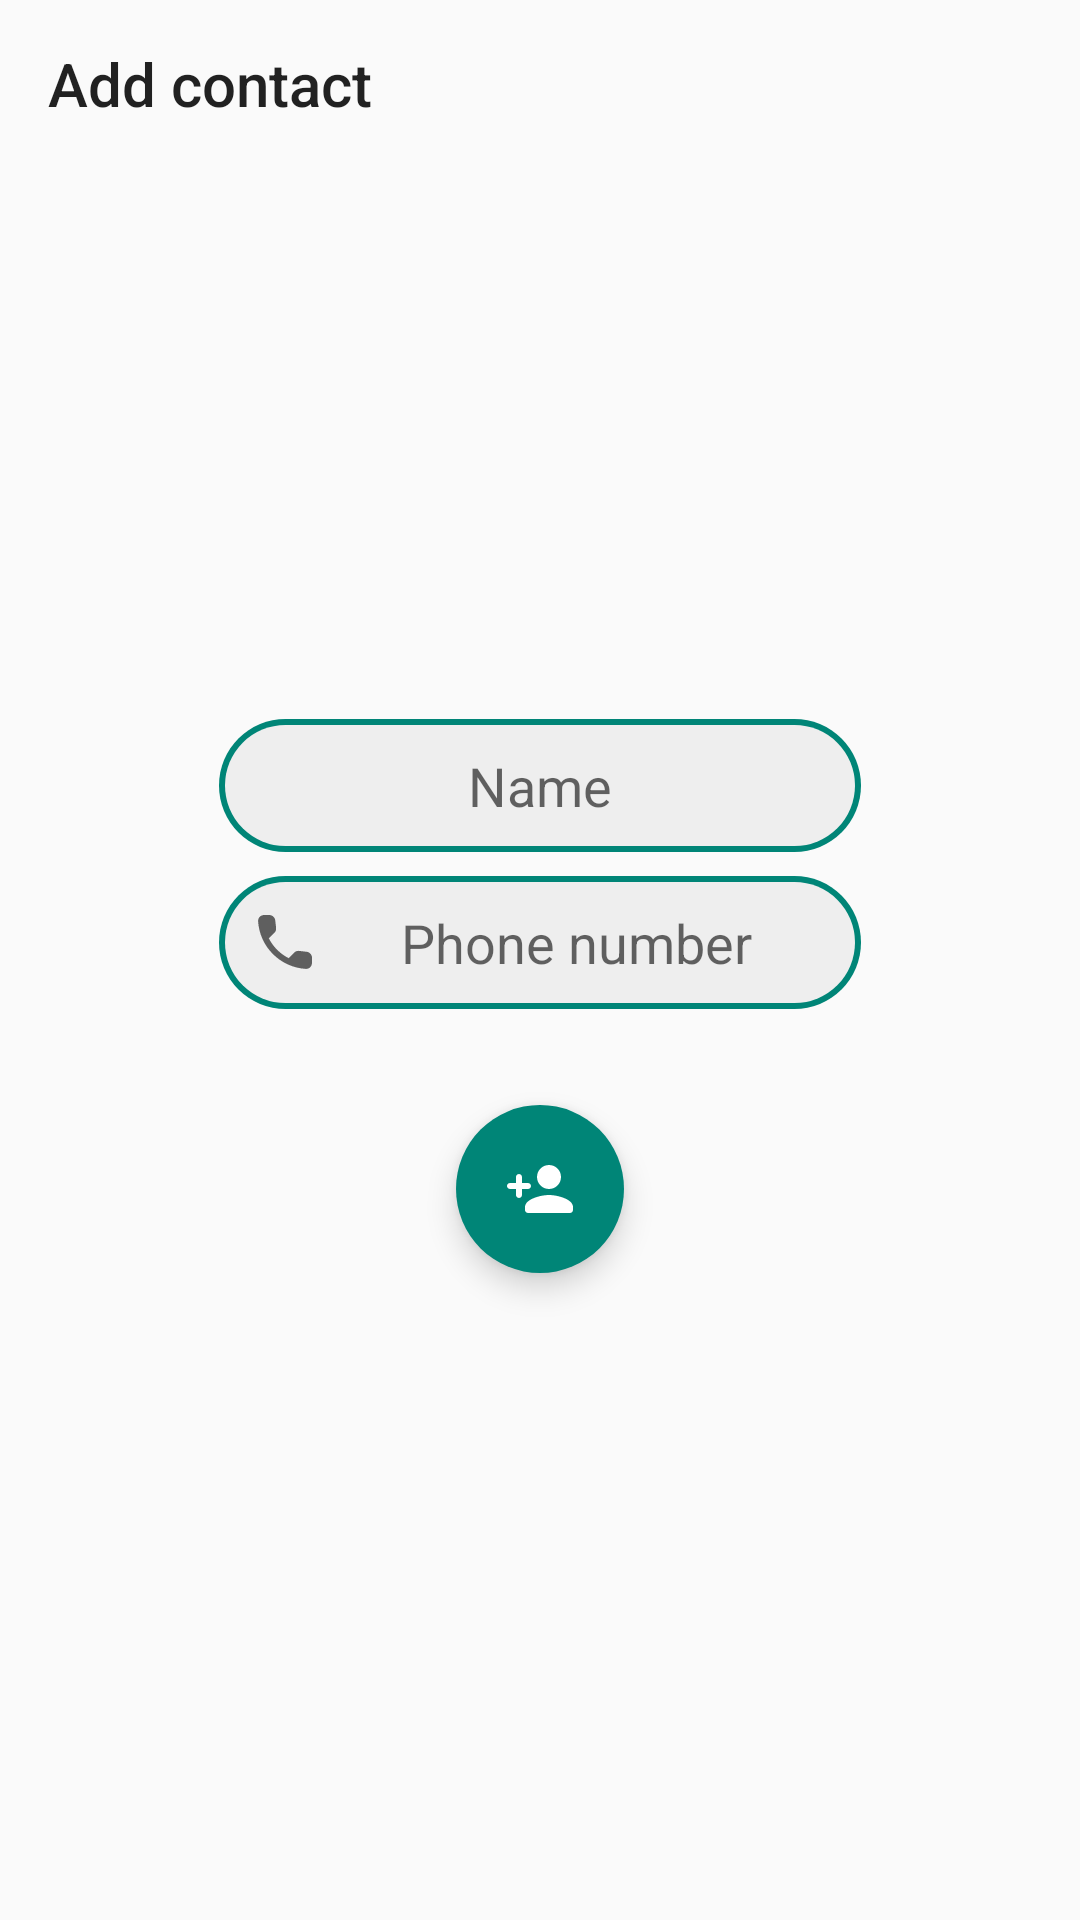

Icons on this 1080x1920 Android screen, each with the point to tap as (x,y):
Add contact: (540,1189)
